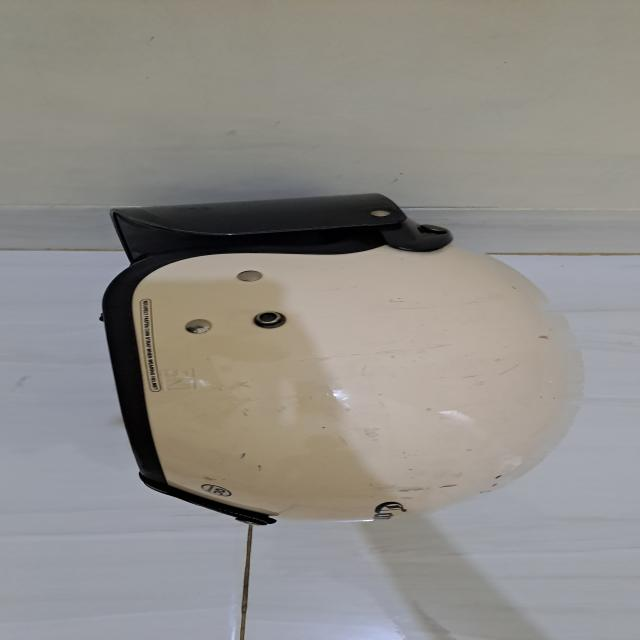Helm: (86, 178, 604, 534)
